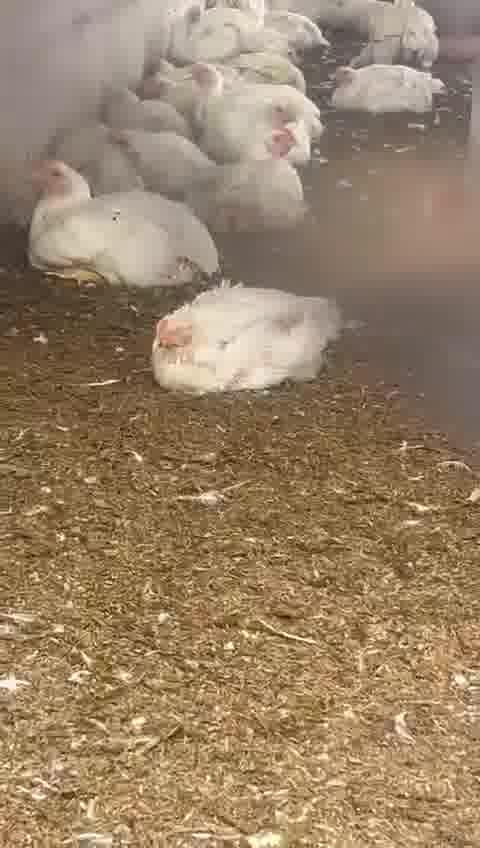AbNormal: (150, 289, 333, 397), (187, 60, 325, 153), (200, 122, 304, 234), (327, 64, 441, 116)
Normal: (27, 164, 218, 288)
